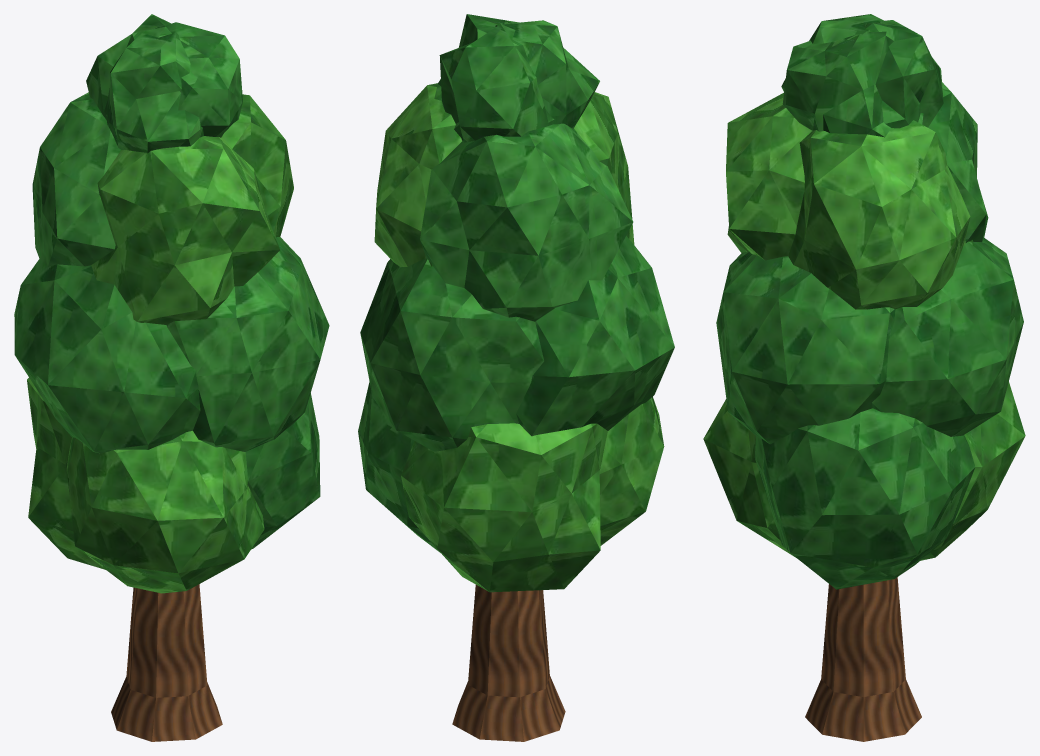
The model's file is tree_tall.glb.
The picture shows the model from 3 angles, left to right: view 1: azimuth 30°, elevation 25°; view 2: azimuth 150°, elevation 25°; view 3: azimuth 270°, elevation 25°; orthographic projection.
Visible parts, largest first — view 1: tree_tall; view 2: tree_tall; view 3: tree_tall.
Part boxes in pixels (bbox=[...]): tree_tall: bbox=[14, 14, 329, 741]; tree_tall: bbox=[358, 14, 674, 741]; tree_tall: bbox=[703, 14, 1025, 741].
Size of the model in its own units: 2.14 by 5.13 by 2.15.
3 materials, 3 textured.
